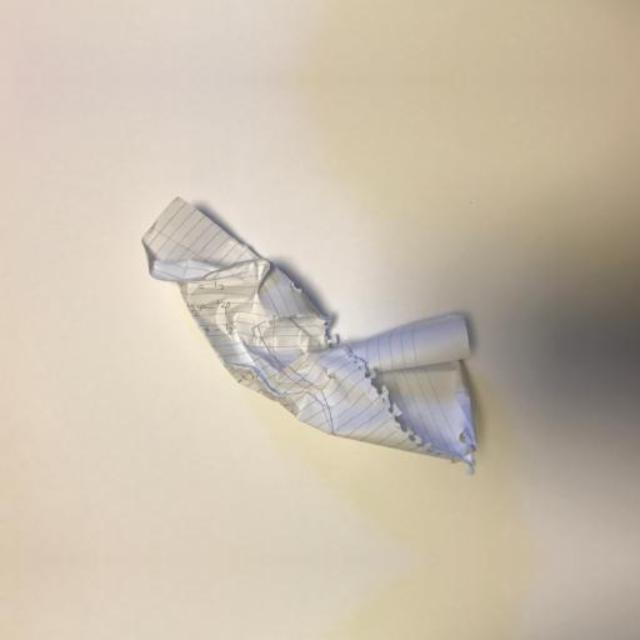paper: (79, 168, 525, 492), (79, 627, 525, 640)
